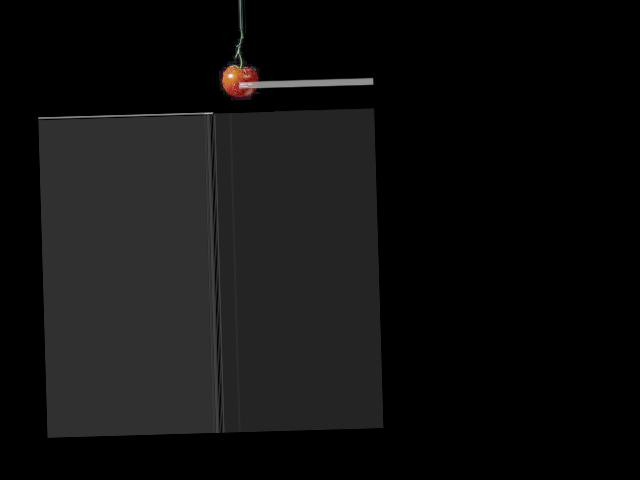tomato: (222, 65, 257, 96)
